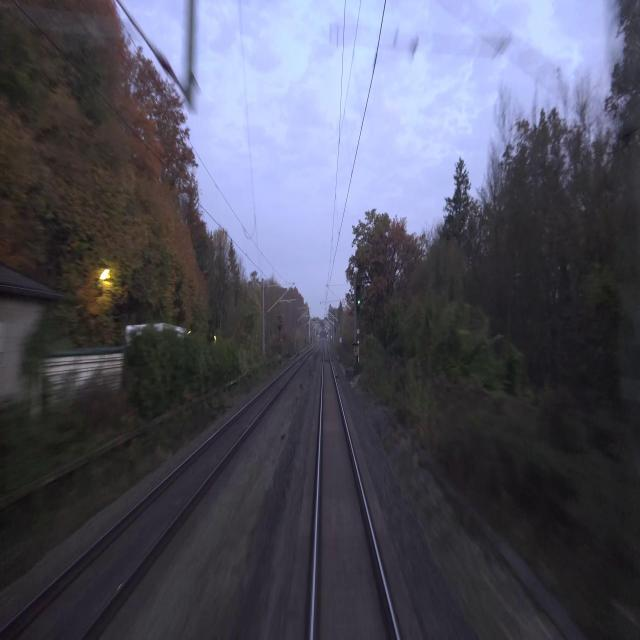rail-track: (0, 361, 299, 639), (316, 346, 395, 639)
